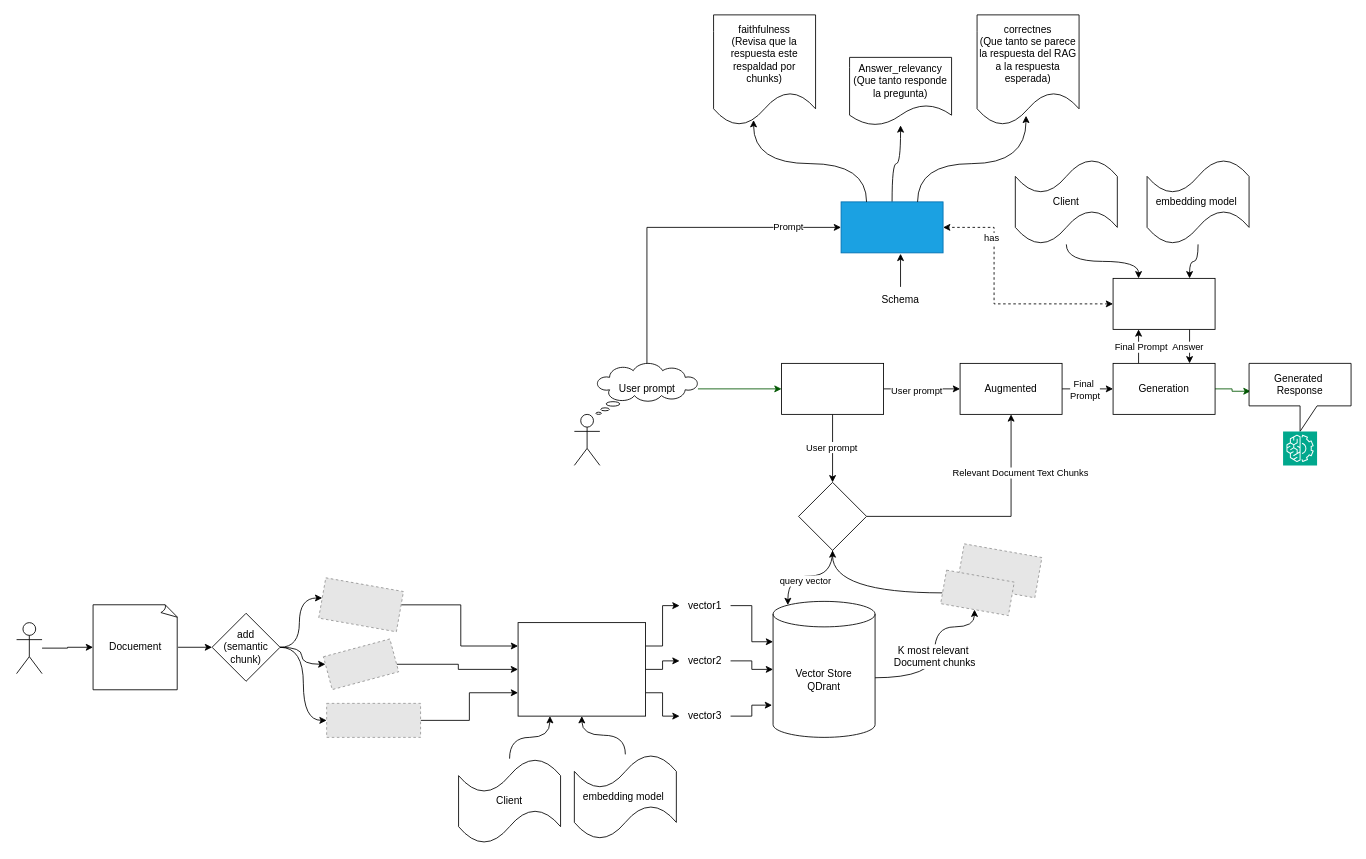
This 1366x859 diagram has some shape labels left out. Grey dashed boxes stand in for pictures. The shapes that lost their labels are listed below. From the top down, each one's box as (x1, y1, x2, y2) in pixels, then its label:
(840, 201, 943, 253): Evaluation model
(1112, 278, 1215, 329): Generation service
(781, 363, 884, 414): Retrieval
(573, 414, 600, 465): Usuario
(798, 482, 867, 550): retirieve
(16, 622, 42, 674): Dueno
(517, 622, 646, 716): embedding_service
